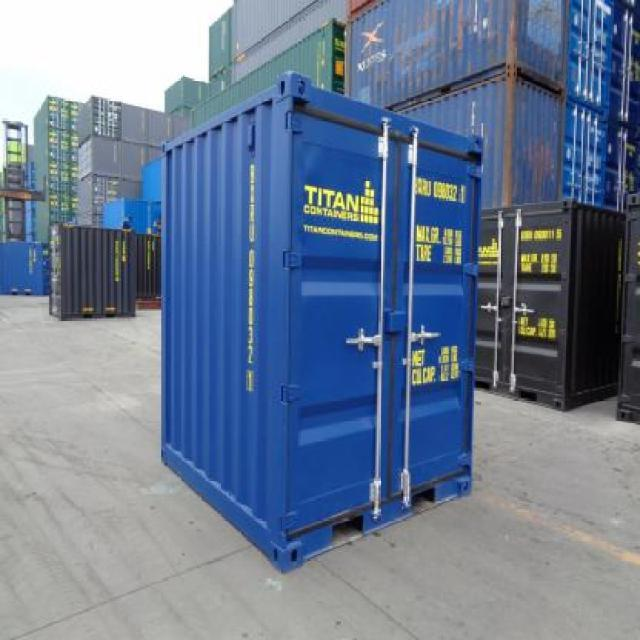container_number: (416, 172, 466, 208)
